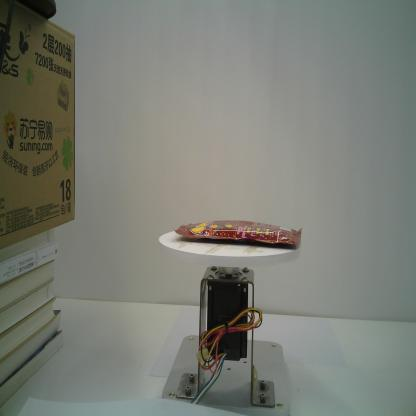Candy: (173, 220, 302, 245)
